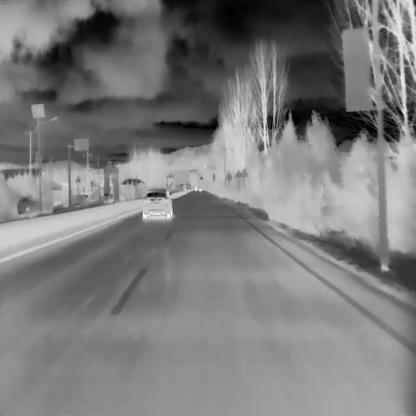car: (142, 190, 172, 218)
